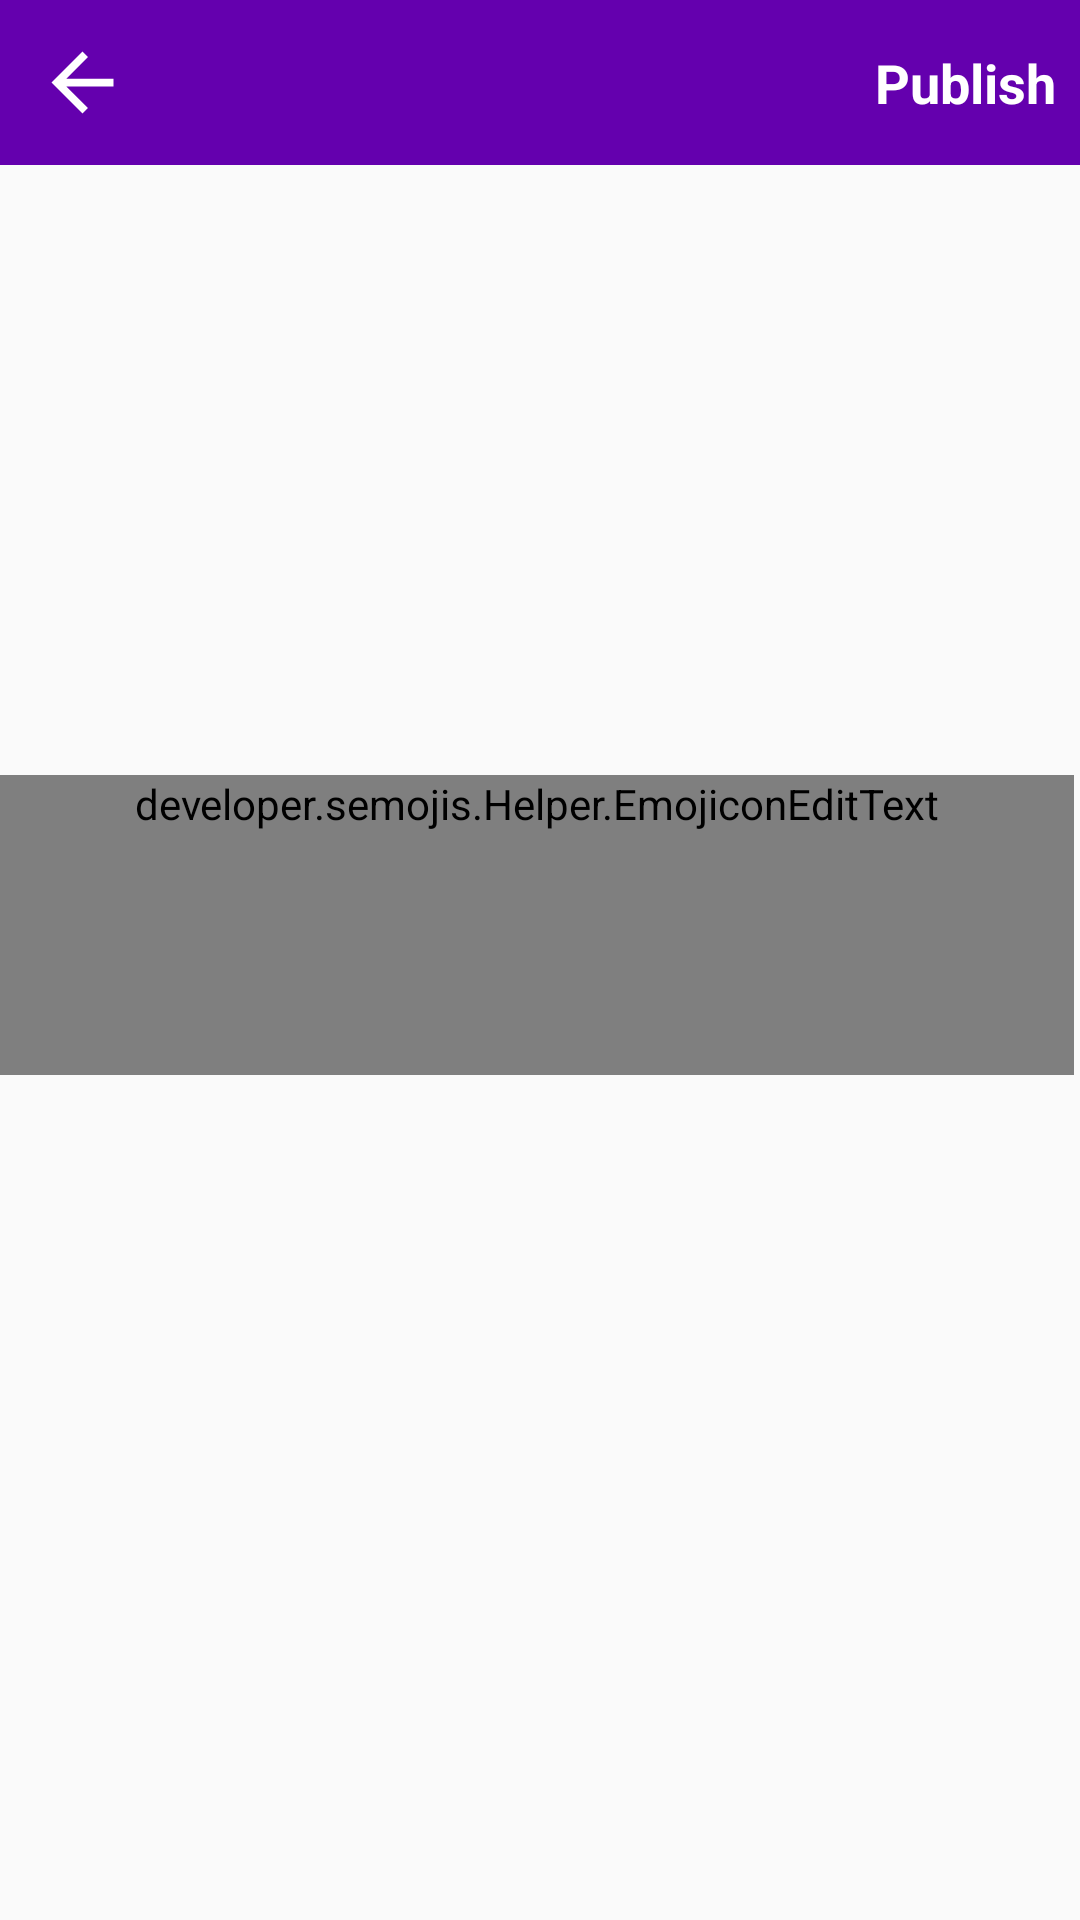

Icons on this 1080w x 1920h Android screen, each with its box as (x1, y1, x2, y2):
back navigation: (51, 51, 114, 114)
